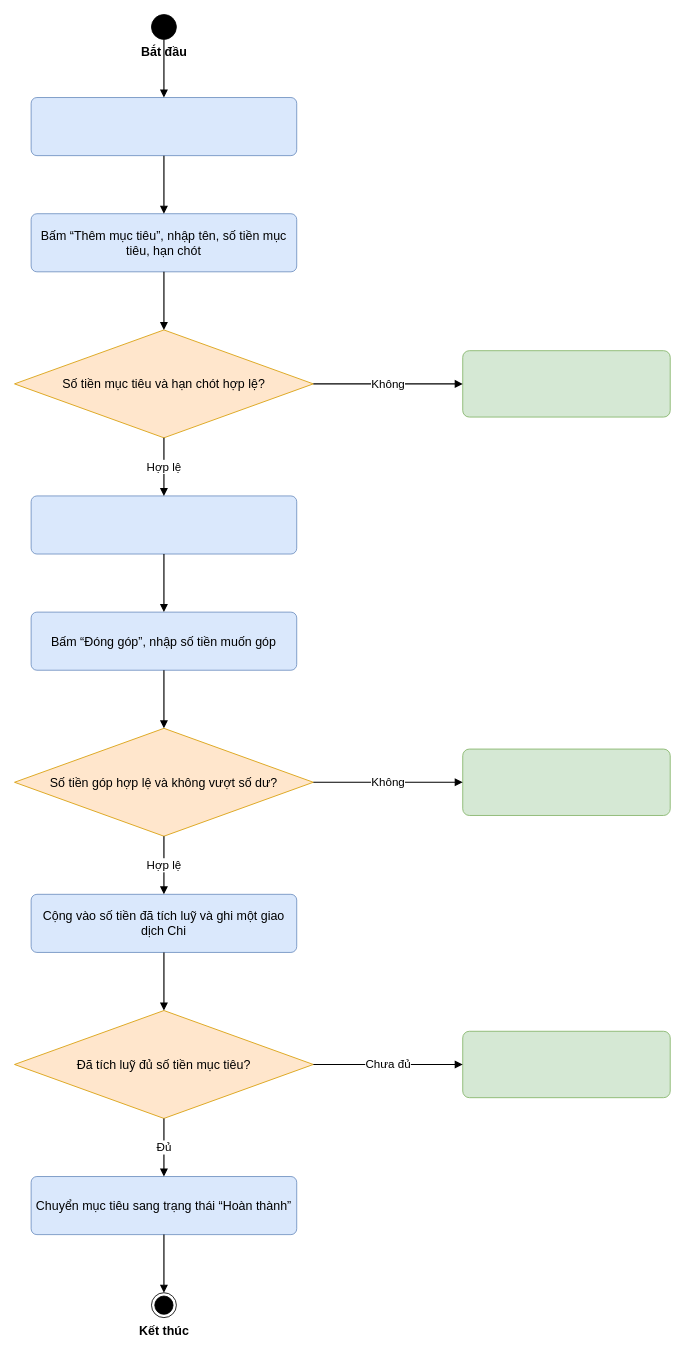
The diagram is 685 pixels wide and 1353 high, and some of its shapes have lost their labels. The centre of each missing label's shape, as x and y in pixels:
"Báo lỗi: số tiền đóng góp không hợp lệ" belongs at point 566,781.
"Báo lỗi: thông tin không hợp lệ" belongs at point 566,383.
"Giữ trạng thái “Đang thực hiện”" belongs at point 566,1064.
"Mở trang Tiết kiệm" belongs at point 163,126.
"Tạo mục tiêu ở trạng thái “Đang thực hiện”" belongs at point 163,524.
